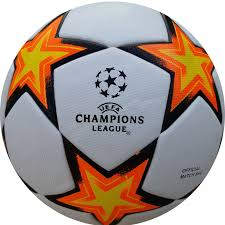football ball: (1, 2, 223, 225)
